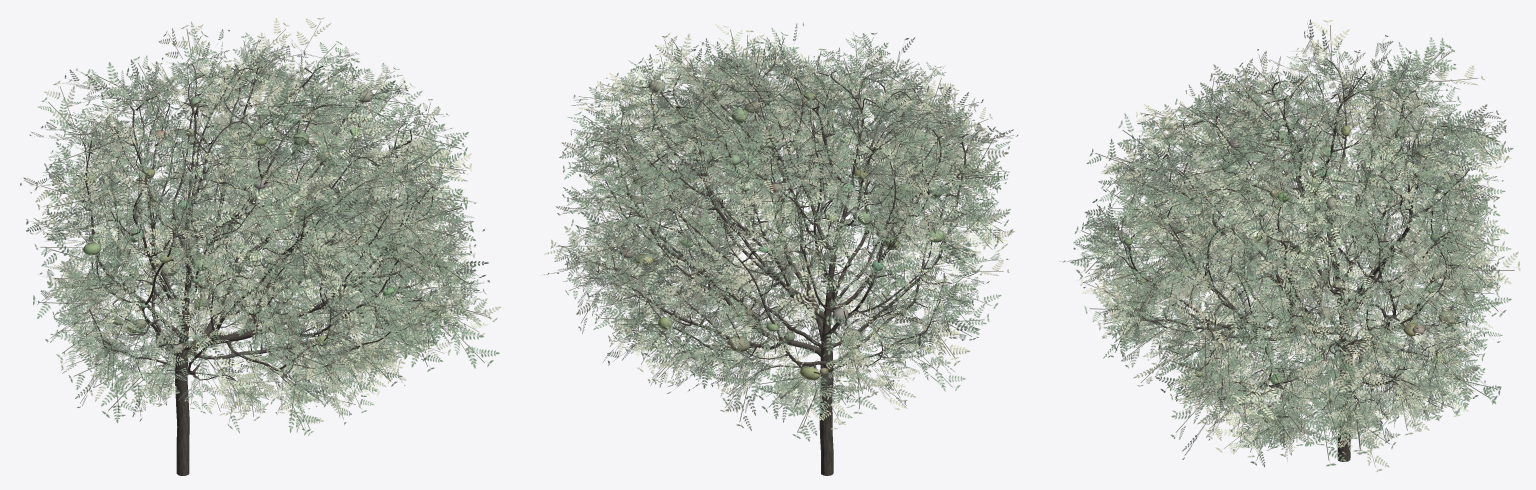
File: tree_60_broadleaf.glb
3 renders of one model, left to right at view 1: azimuth 30°, elevation 25°; view 2: azimuth 150°, elevation 25°; view 3: azimuth 270°, elevation 25°, orthographic.
Parts seen in each view (by area): view 1: tree_60_broadleaf.leaves, tree_60_broadleaf.trunk_branches, tree_60_broadleaf.foliage_volume; view 2: tree_60_broadleaf.leaves, tree_60_broadleaf.trunk_branches, tree_60_broadleaf.foliage_volume; view 3: tree_60_broadleaf.leaves, tree_60_broadleaf.trunk_branches, tree_60_broadleaf.foliage_volume.
Boxes of the visible parts, x1=… form: tree_60_broadleaf.leaves: x1=20, y1=17, x2=500, y2=436; tree_60_broadleaf.trunk_branches: x1=76, y1=63, x2=443, y2=475; tree_60_broadleaf.foliage_volume: x1=83, y1=90, x2=445, y2=359; tree_60_broadleaf.leaves: x1=541, y1=22, x2=1018, y2=441; tree_60_broadleaf.trunk_branches: x1=598, y1=59, x2=969, y2=475; tree_60_broadleaf.foliage_volume: x1=619, y1=81, x2=970, y2=380; tree_60_broadleaf.leaves: x1=1059, y1=19, x2=1520, y2=472; tree_60_broadleaf.trunk_branches: x1=1117, y1=59, x2=1469, y2=461; tree_60_broadleaf.foliage_volume: x1=1123, y1=123, x2=1459, y2=422.
Size of the model in its own units: 13 by 11.76 by 11.98.
3 materials, 2 textured.
